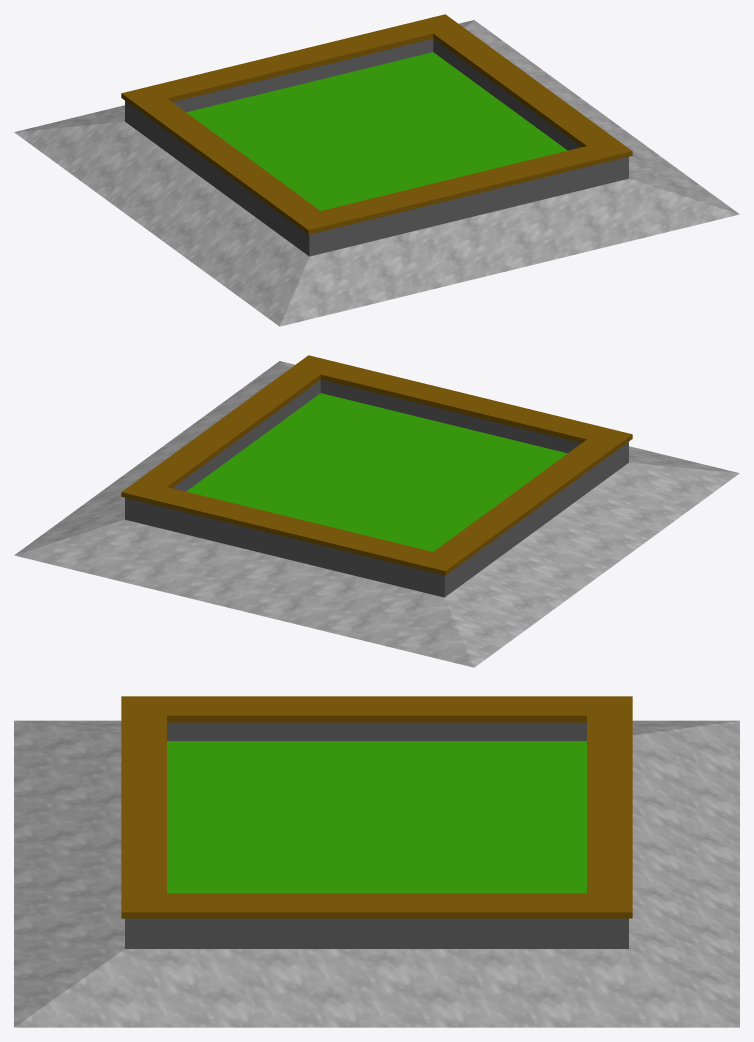
The model's file is RampTree.fbx.
3 renders of one model, top to bottom at view 1: azimuth 30°, elevation 25°; view 2: azimuth 150°, elevation 25°; view 3: azimuth 270°, elevation 25°, orthographic. The views are drawn at different scales.
Visible parts, largest first — view 1: TreeRamp; view 2: TreeRamp; view 3: TreeRamp.
Boxes of the visible parts, left/top/right/bottom form: TreeRamp: left=14, top=14, right=739, bottom=326; TreeRamp: left=14, top=355, right=739, bottom=667; TreeRamp: left=14, top=696, right=739, bottom=1027.
Size of the model in its own units: 1037 by 110 by 1037.
